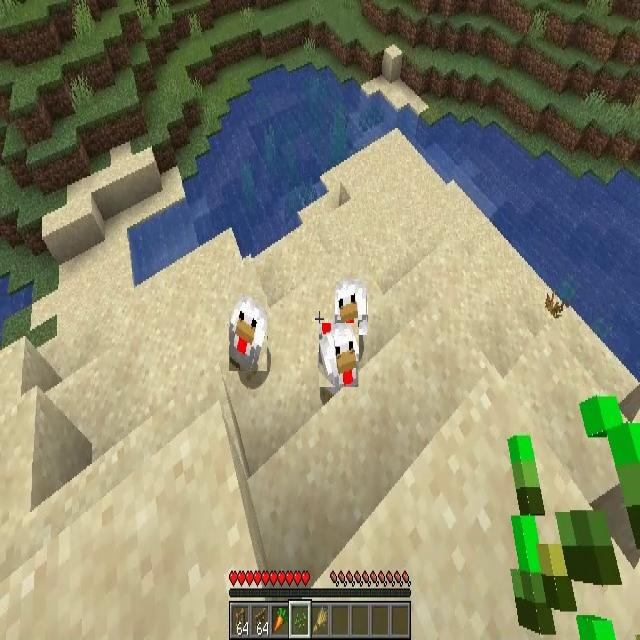duck: (229, 295, 267, 371), (319, 323, 359, 387), (335, 281, 367, 335)
